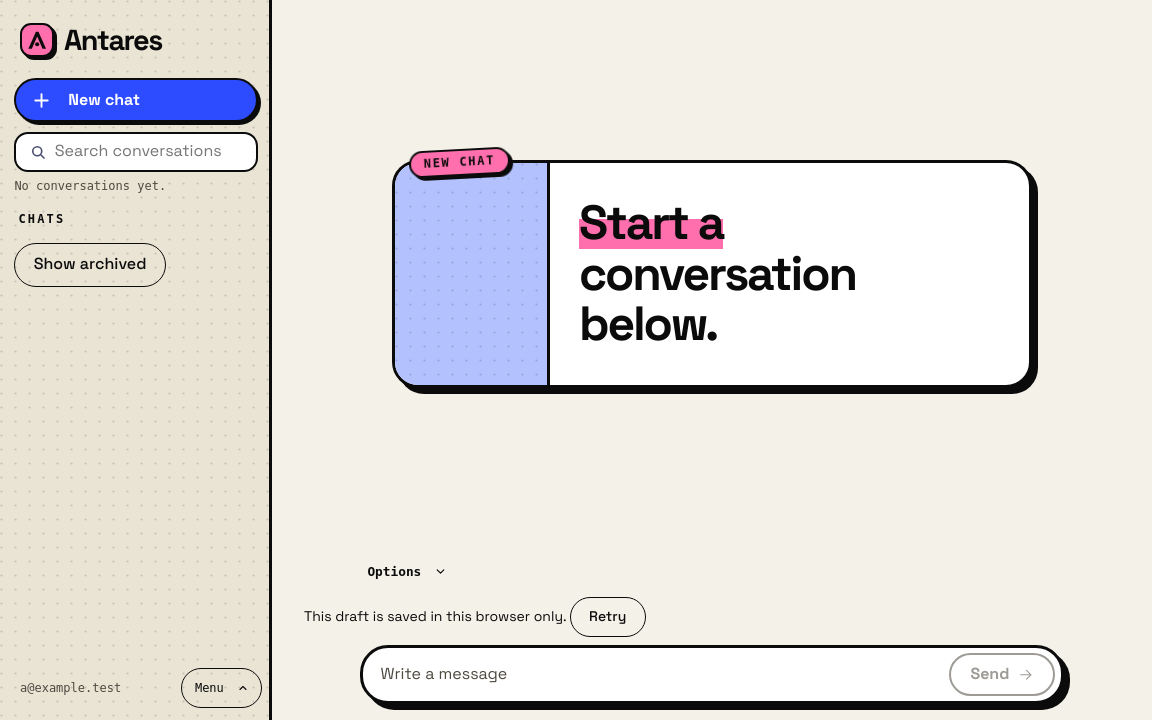
Test: phone layout toggles › puts the per-chat options behind a toggle
The image size is (1152, 720).
Step 1. Click the button "Options" → [407, 572], box x1=360 y1=556 x2=454 y2=588
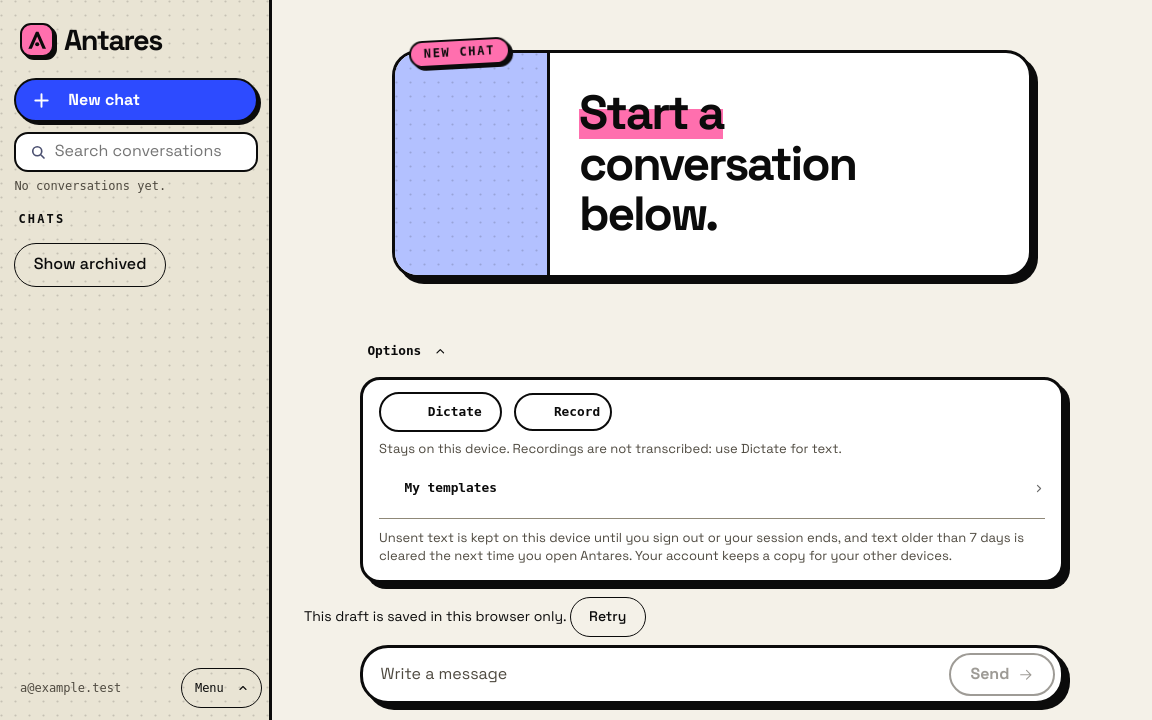
Now the button "Options" is expanded, box x1=360 y1=335 x2=454 y2=367
